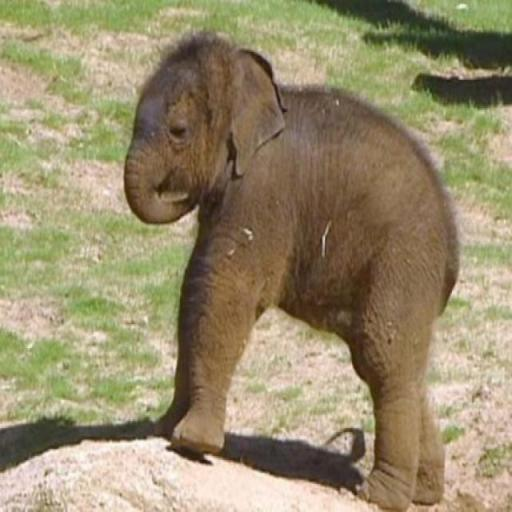Elephant: (122, 28, 460, 510)
